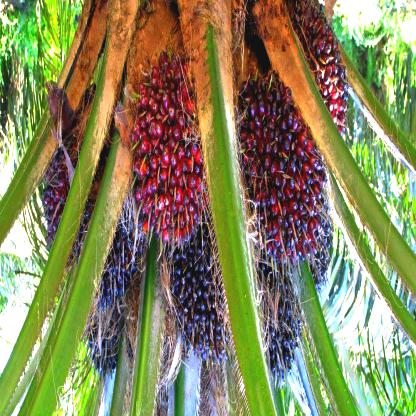1: (226, 84, 330, 271), (124, 66, 208, 250), (292, 1, 352, 133)
palm-oil: (40, 124, 106, 263), (168, 231, 232, 365), (80, 240, 140, 378), (241, 266, 306, 380)
